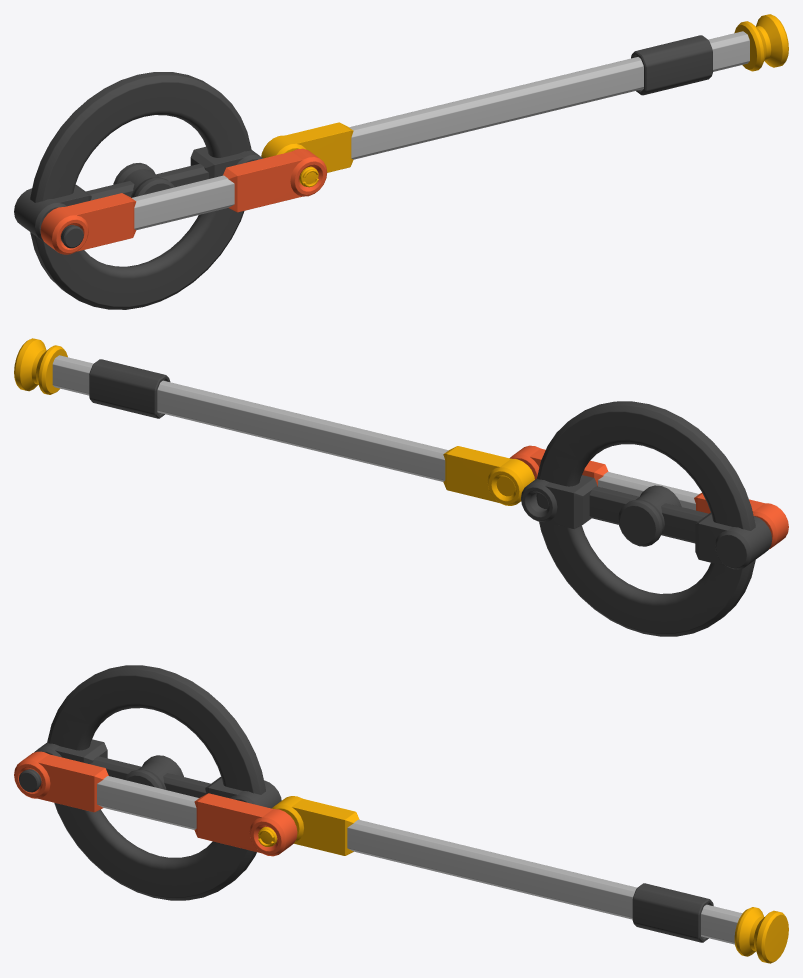
File: SliderCrankLinkage.gltf
3 renders of one model, top to bottom at view 1: azimuth 30°, elevation 25°; view 2: azimuth 150°, elevation 25°; view 3: azimuth 330°, elevation 25°, orthographic.
Parts seen in each view (by area): view 1: Circle, Hinge2, Hinge1, SlinderFix; view 2: Circle, Hinge2, Hinge1, SlinderFix; view 3: Circle, Hinge2, Hinge1, SlinderFix.
Boxes of the visible parts, x1,y1,x2,y2 form: Circle: (14, 72, 262, 309); Hinge2: (261, 14, 788, 187); Hinge1: (40, 148, 327, 254); SlinderFix: (631, 35, 712, 95); Circle: (521, 401, 772, 636); Hinge2: (14, 338, 534, 505); Hinge1: (509, 445, 788, 549); SlinderFix: (89, 359, 170, 418); Circle: (19, 665, 281, 900); Hinge2: (258, 796, 788, 963); Hinge1: (14, 751, 297, 856); SlinderFix: (632, 883, 713, 942).
Bounding box in the file's own units: 3.99 × 1.17 × 0.405.
1 material, 1 textured.
